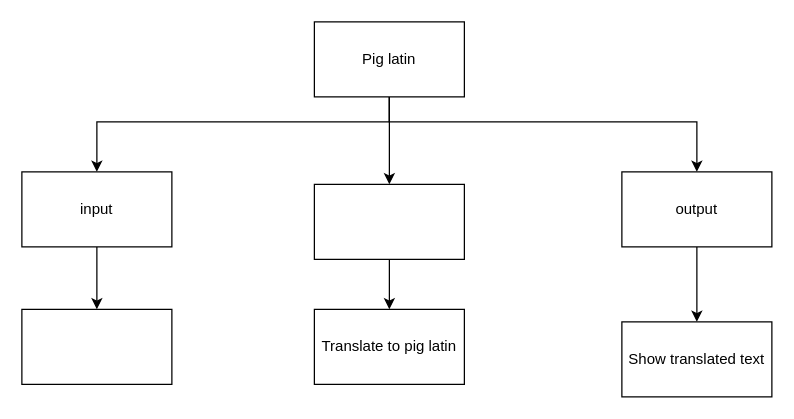
The diagram is 794 pixels wide and 419 high, and some of its shapes have lost their labels. Here are the shapes that lost their labels. From the top down, the centre of each, then its label:
[388,221]: Prrocess
[96,346]: Get text
